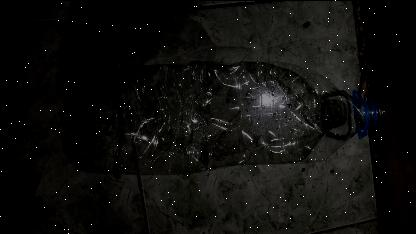Plastic Bottle: (60, 60, 384, 174)
